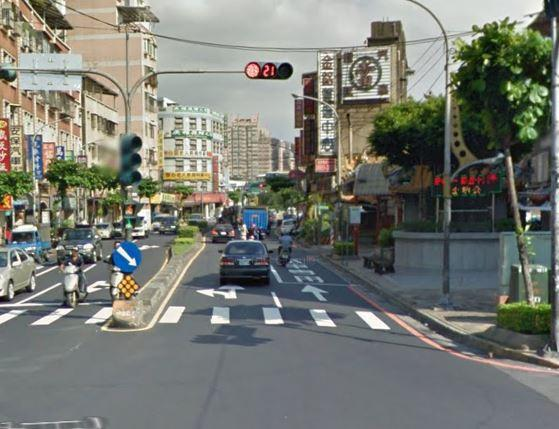red_traffic_light: (243, 60, 294, 79)
